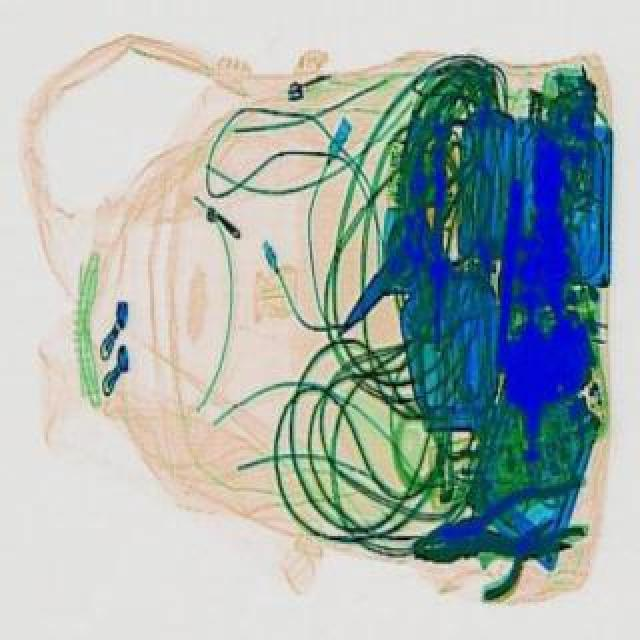wrench: (404, 470, 600, 582)
